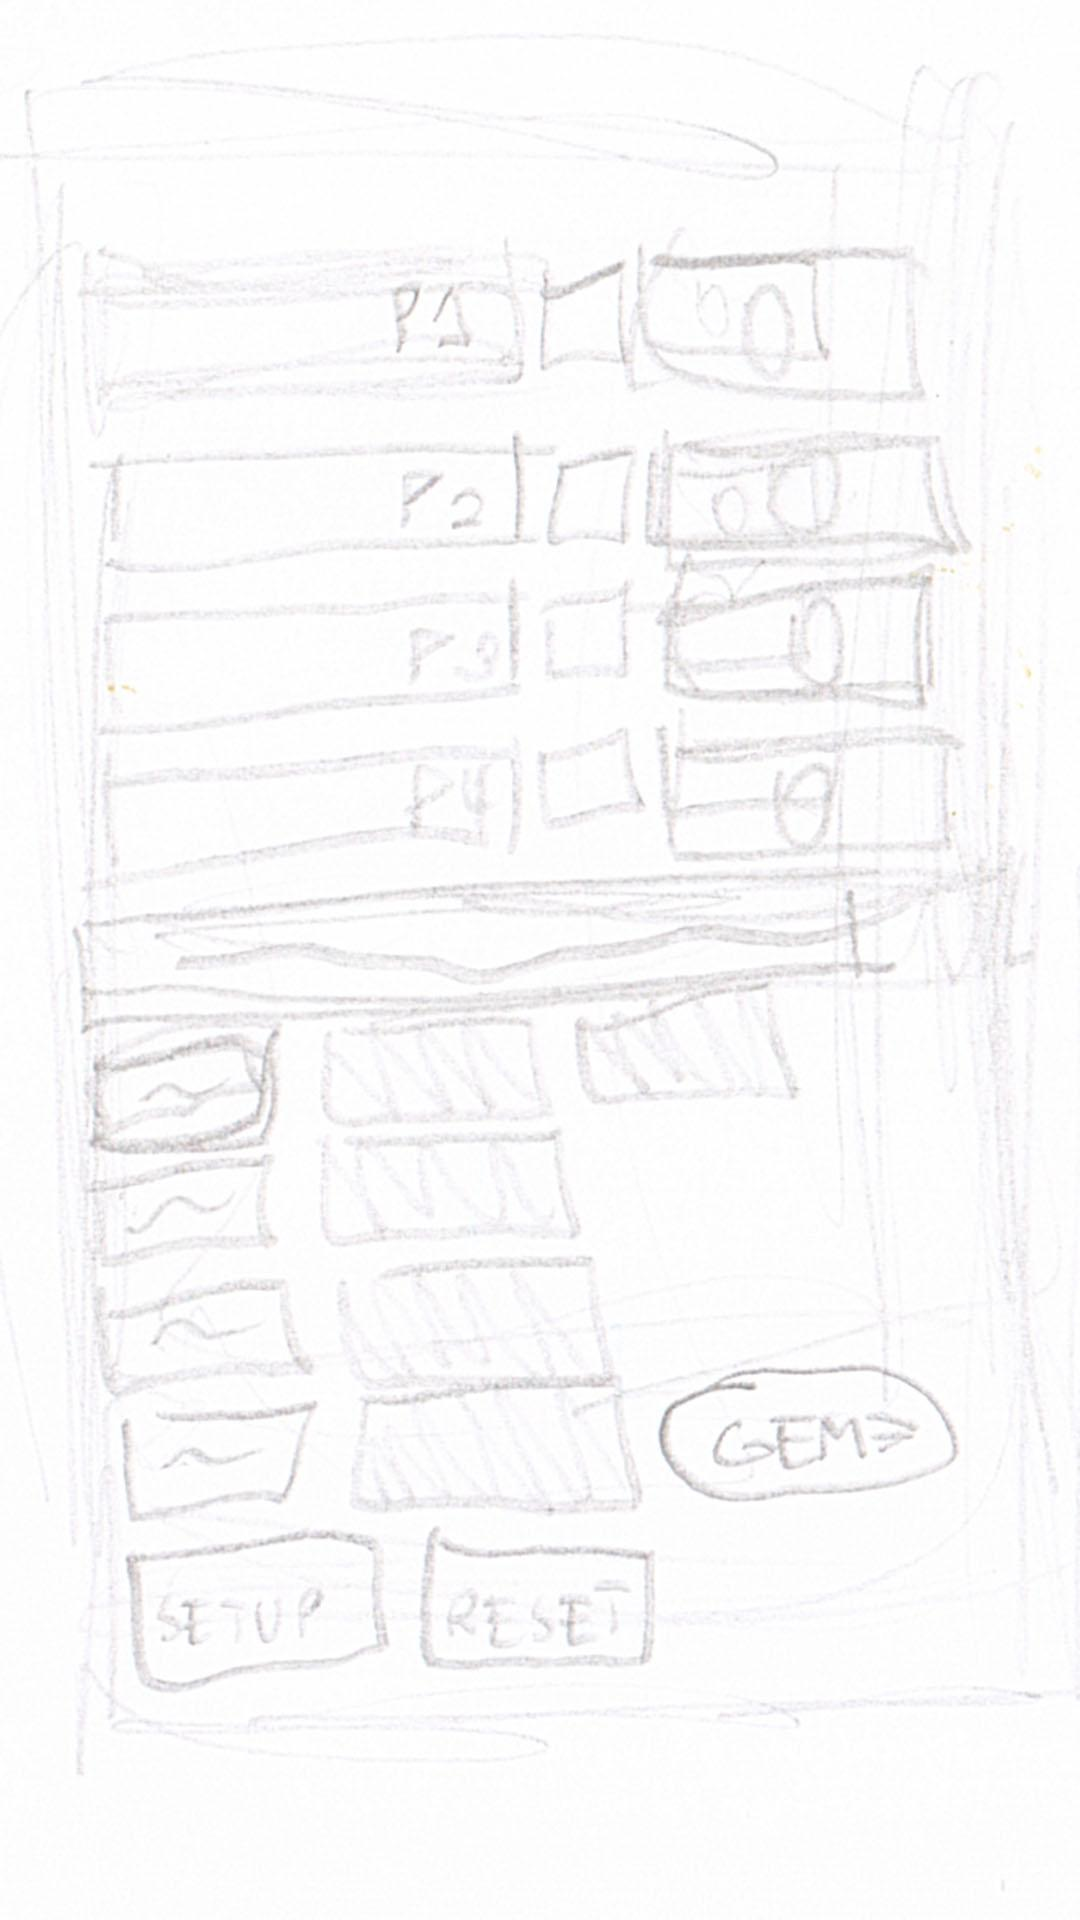Button: (79, 881, 873, 1025), (645, 252, 924, 406), (654, 1362, 965, 1499), (128, 1532, 385, 1681), (669, 579, 943, 711), (671, 737, 961, 852), (426, 1538, 653, 1673), (666, 446, 952, 551), (94, 1283, 302, 1391), (124, 1403, 316, 1514), (91, 1158, 274, 1265), (95, 1039, 270, 1146)
Screen: (47, 94, 1044, 1726)
TextBox: (87, 262, 521, 406), (103, 752, 521, 880), (100, 599, 518, 725), (105, 454, 521, 559)
